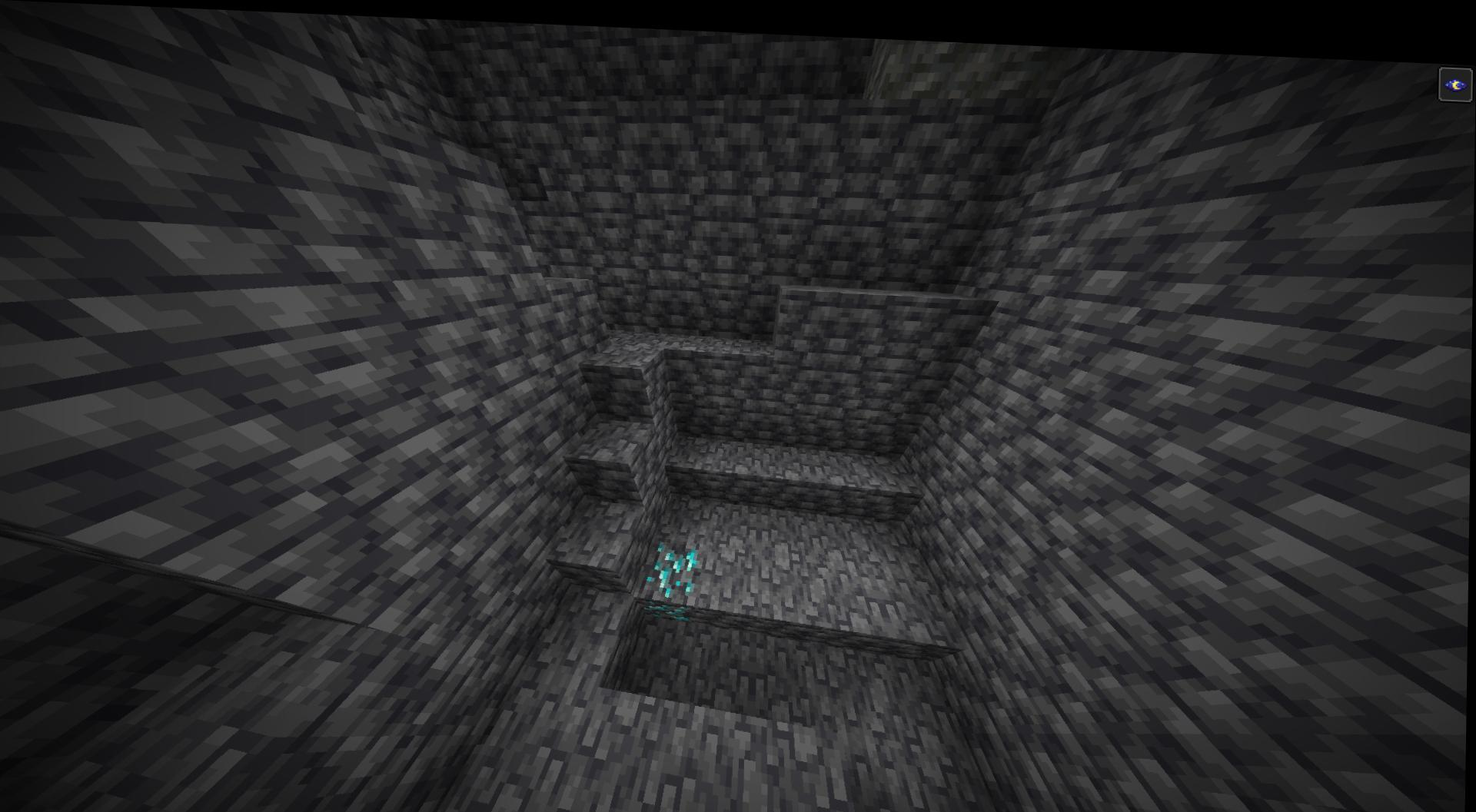diamond ore: (643, 539, 704, 621)
